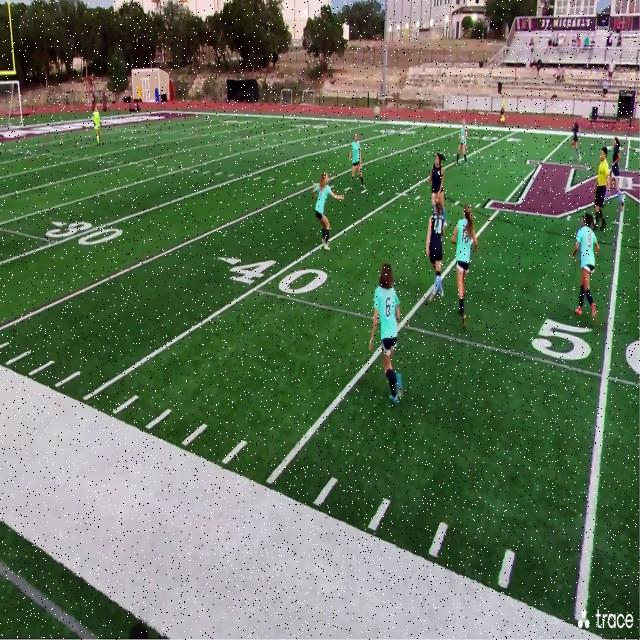Ball: (372, 104, 382, 120)
GoalKeeper: (90, 102, 106, 147)
TEAM 1: (424, 200, 448, 300), (425, 152, 450, 209), (608, 135, 624, 212), (570, 116, 583, 162)
TEAM 2: (371, 261, 405, 414), (452, 204, 480, 329), (572, 210, 601, 319), (312, 170, 340, 252), (349, 131, 371, 204), (457, 116, 469, 168)
